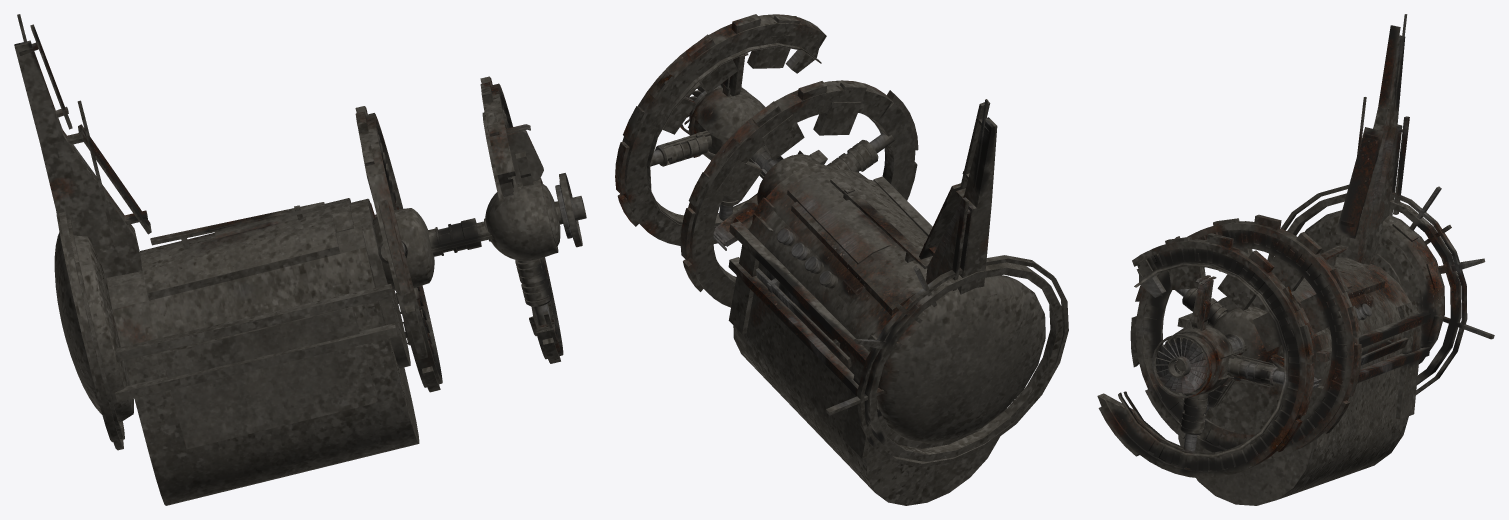
Rendered from SpaceShip.fbx.
3 renders of one model, left to right at view 1: azimuth 30°, elevation 25°; view 2: azimuth 150°, elevation 25°; view 3: azimuth 270°, elevation 25°, orthographic. The views are drawn at different scales.
Visible parts, largest first — view 1: pCube86; view 2: pCube86; view 3: pCube86.
Part boxes in pixels (left/top/right/bottom): pCube86: left=14, top=14, right=586, bottom=505; pCube86: left=615, top=14, right=1068, bottom=505; pCube86: left=1097, top=14, right=1494, bottom=505.
Size of the model in its own units: 67.94 by 67.79 by 59.27.
Materials: 1 (1 with a texture image).
